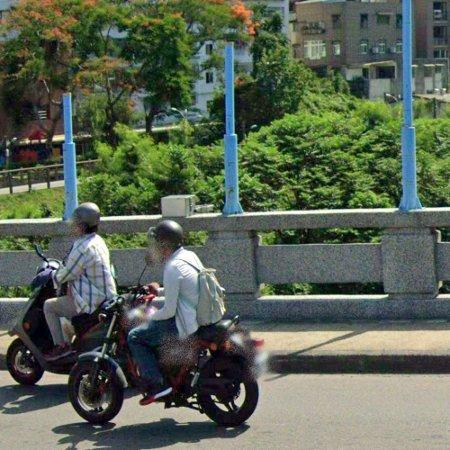motorcycles: (6, 256, 105, 386), (159, 317, 265, 427), (68, 287, 148, 424)
